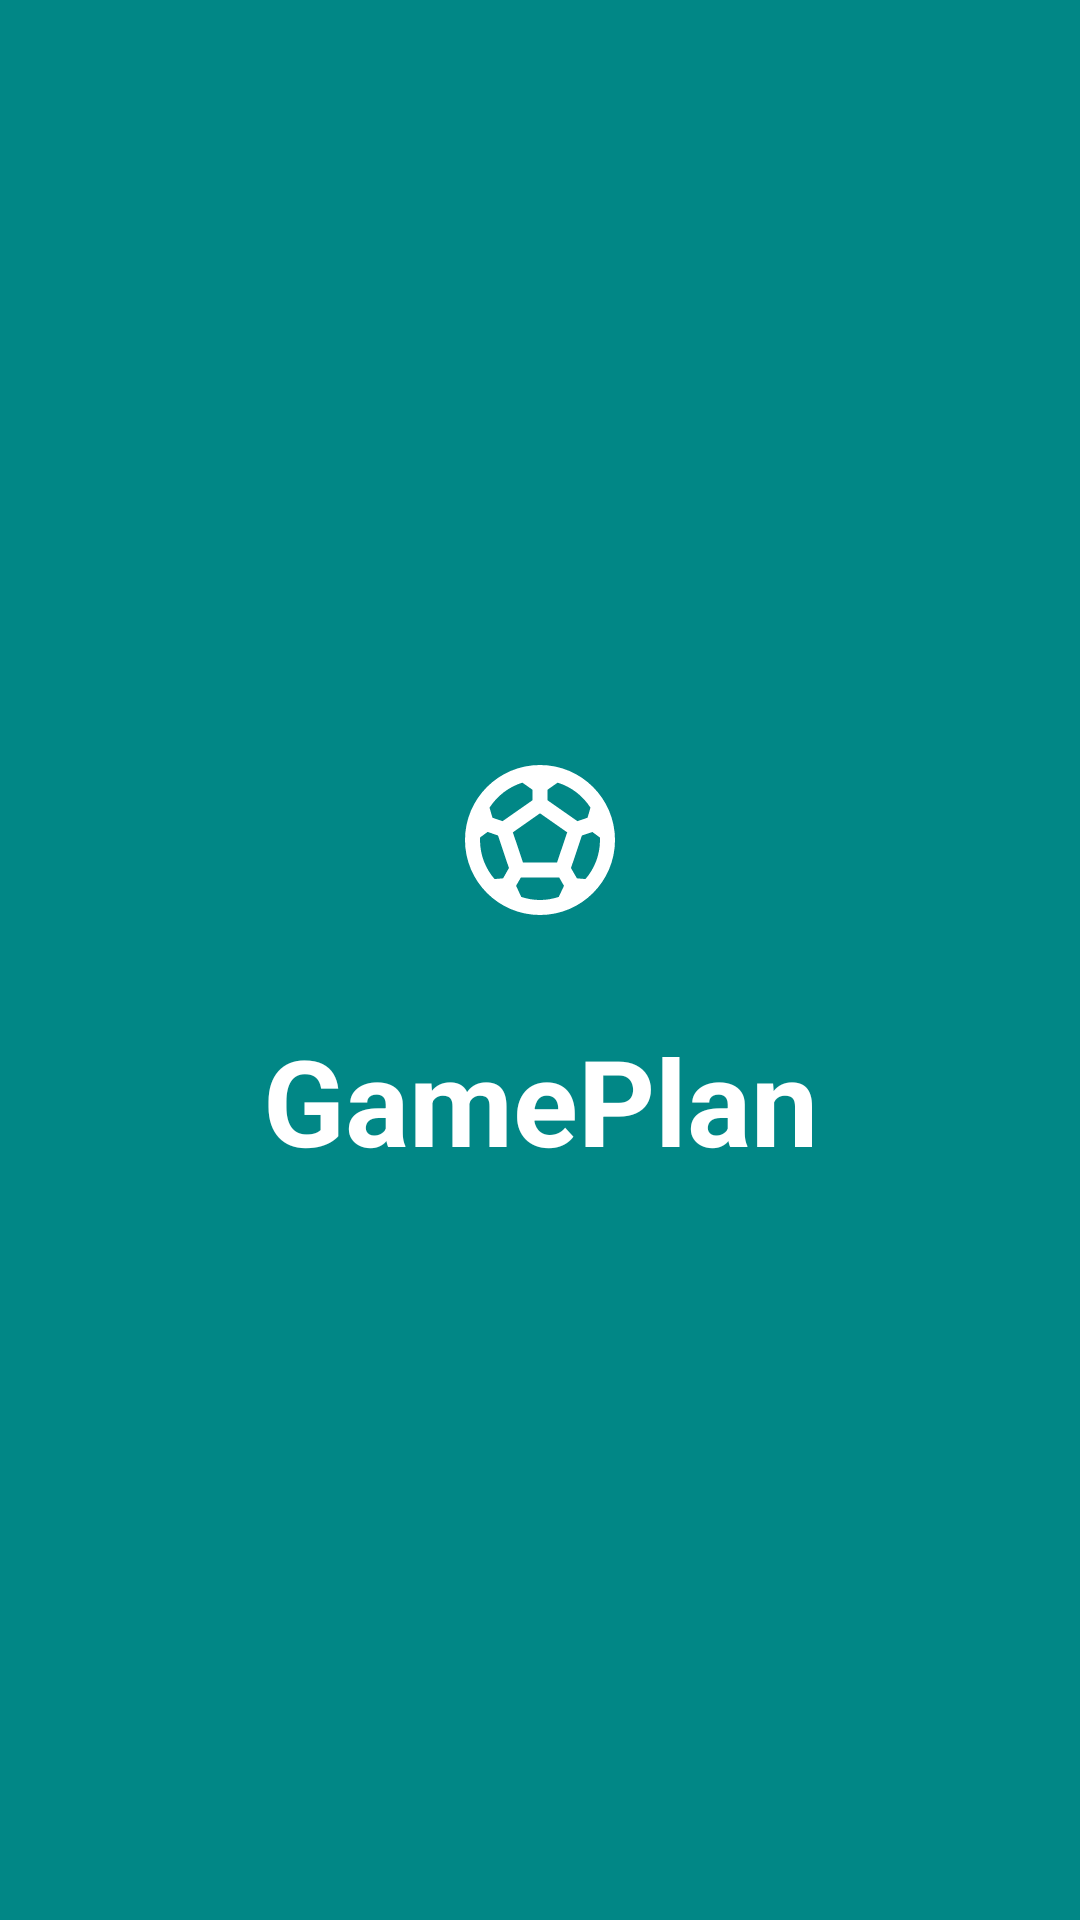

Screen size 1080w x 1920h. Icon name, then its box in pixels as (x1, y1, x2, y2):
sports soccer: (465, 765, 615, 915)
